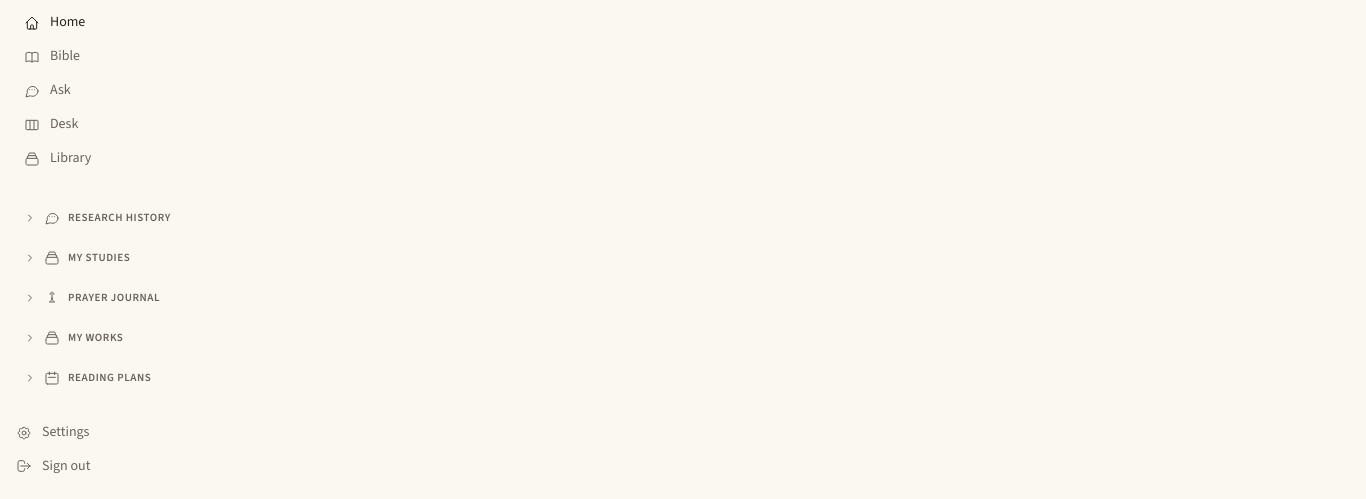
Scenario: B044 — sign-out is a two-step control › disarms on blur — an armed row must not lie in wait for a later stray tap
Step 1. Click the button "Sign out" → [66, 466], box [8,450,1358,482]
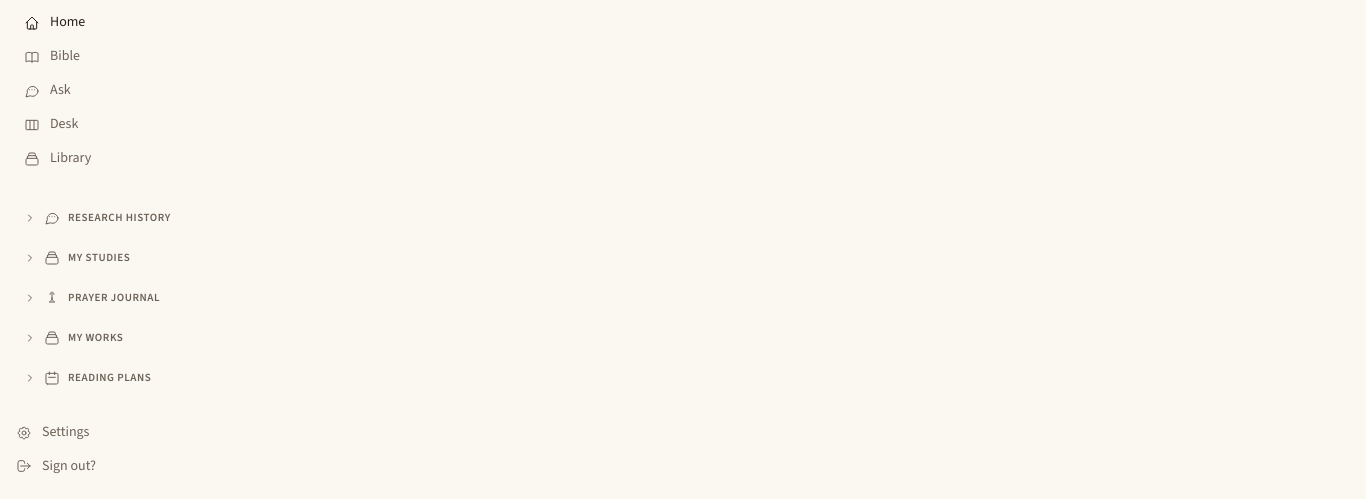
Step 2. Leave the button "Sign out?", box [8,450,1358,482]
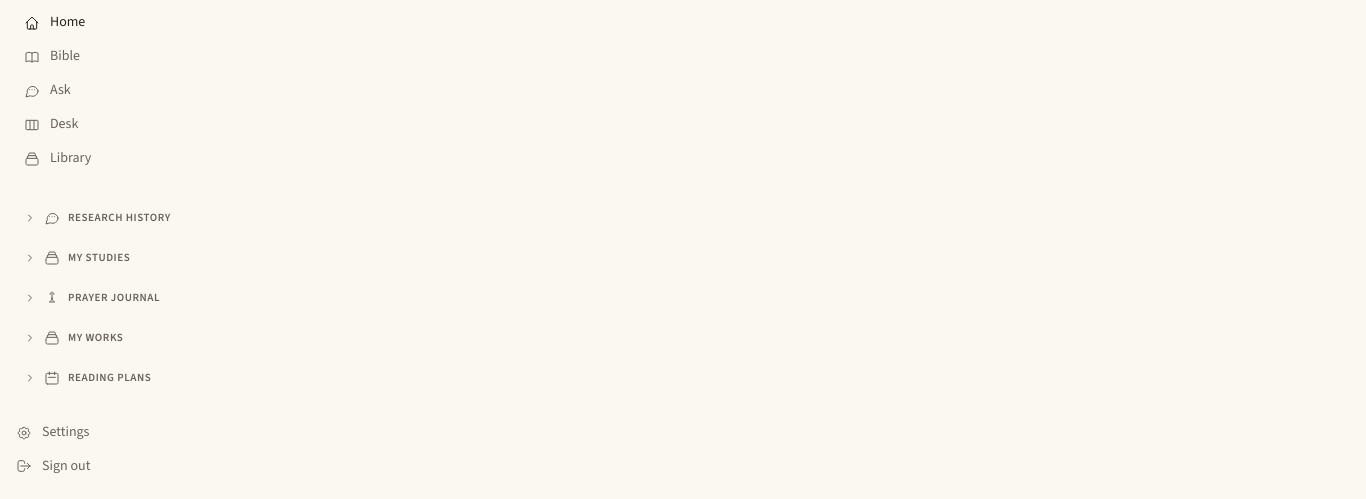
Expected: the button "Sign out" is shown, [8,450,1358,482]
